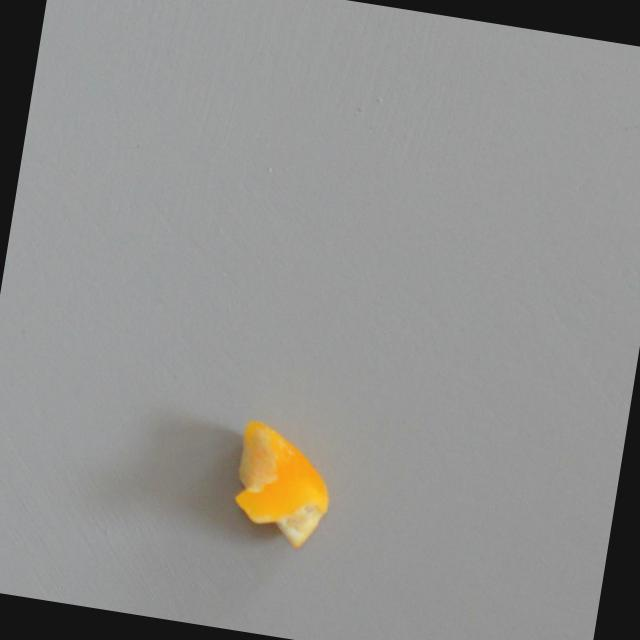dañado: (215, 411, 347, 556)
